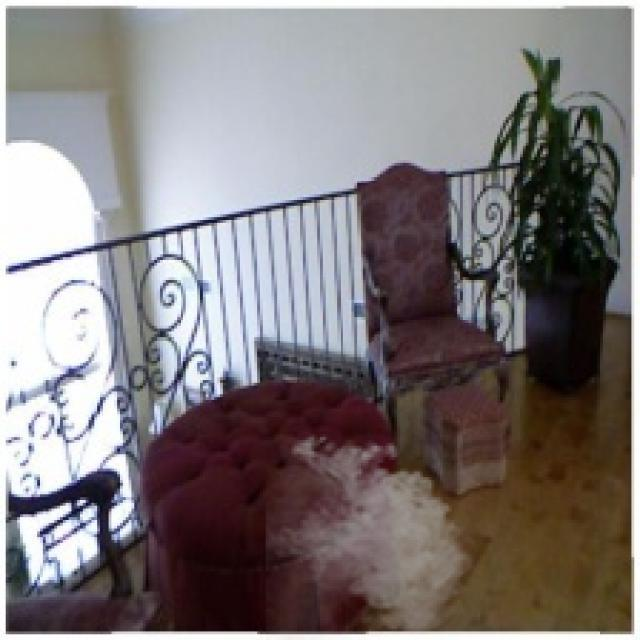Smoke: (266, 428, 483, 638)
